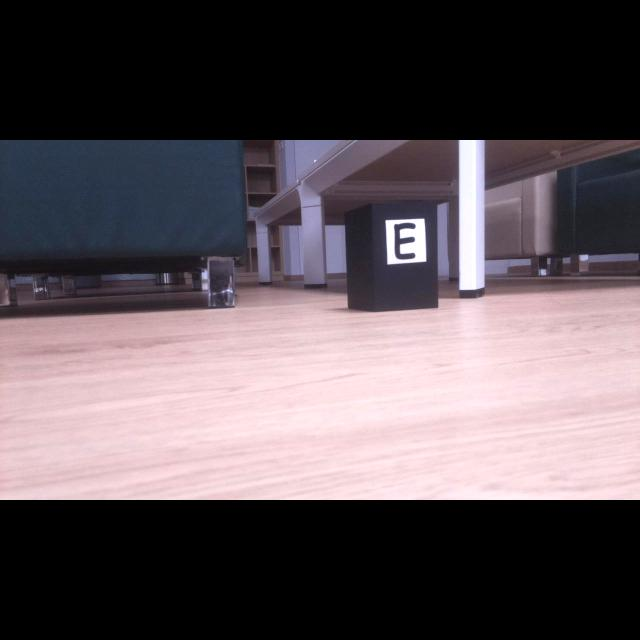E: (394, 222, 416, 258)
